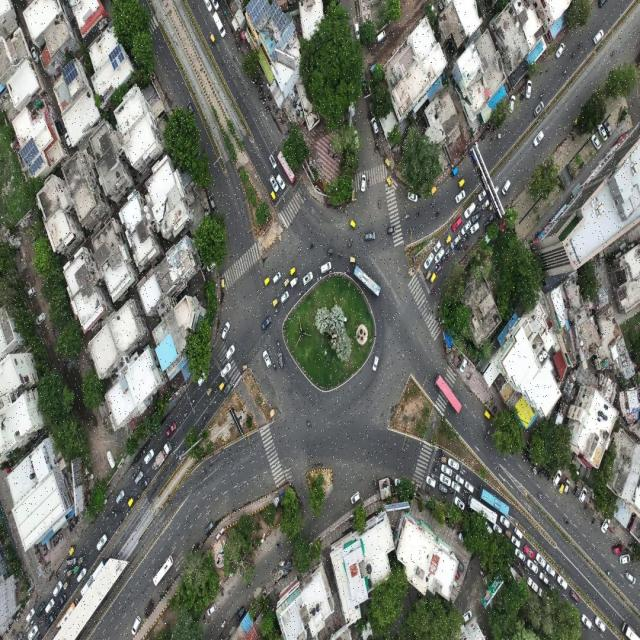3W: (67, 540, 78, 557), (262, 272, 273, 288), (65, 562, 74, 581), (428, 182, 438, 198), (482, 405, 492, 421), (270, 294, 281, 308), (62, 575, 71, 592), (349, 216, 358, 233), (76, 553, 86, 568), (206, 381, 214, 399), (451, 163, 460, 179), (240, 359, 251, 372), (72, 563, 82, 577), (127, 494, 136, 509), (457, 174, 466, 189), (573, 481, 580, 500), (326, 244, 336, 257), (348, 252, 358, 265), (438, 452, 448, 465), (209, 33, 218, 47), (503, 526, 512, 540), (218, 377, 226, 392), (270, 188, 278, 203), (428, 272, 438, 284), (557, 482, 565, 497), (219, 275, 226, 290), (444, 234, 452, 247), (283, 276, 291, 288), (289, 266, 297, 278), (384, 156, 391, 169), (425, 270, 432, 283), (486, 205, 494, 214), (387, 177, 392, 189)
Bus: (78, 555, 109, 598), (434, 372, 464, 416), (352, 261, 382, 299), (464, 494, 500, 525), (478, 484, 510, 517), (54, 596, 81, 635), (148, 552, 176, 588), (277, 150, 297, 187), (618, 618, 640, 640)
Cars: (595, 118, 609, 143), (368, 349, 380, 378), (553, 40, 567, 63), (95, 532, 109, 554), (267, 172, 279, 197), (599, 514, 612, 537), (144, 596, 155, 622), (532, 126, 545, 148), (450, 214, 465, 233), (261, 345, 272, 370), (452, 188, 467, 206), (142, 448, 156, 467), (590, 28, 604, 47), (44, 609, 56, 631), (260, 314, 273, 334), (186, 98, 196, 124), (506, 92, 516, 118), (463, 199, 476, 219), (580, 612, 593, 632), (453, 495, 468, 512), (130, 615, 142, 636), (165, 419, 177, 440), (349, 489, 363, 507), (221, 319, 231, 344), (224, 343, 237, 362), (234, 604, 247, 623), (593, 614, 606, 633), (76, 566, 88, 586), (590, 134, 602, 154), (320, 259, 334, 276), (532, 101, 545, 119), (461, 218, 474, 236), (52, 579, 64, 598), (220, 361, 232, 380), (526, 558, 540, 574), (301, 269, 314, 286), (374, 28, 387, 45), (552, 466, 562, 488), (55, 593, 67, 611), (624, 568, 636, 586), (557, 574, 569, 592), (535, 552, 549, 567), (523, 544, 537, 559), (205, 601, 218, 617), (500, 179, 512, 196), (569, 588, 581, 605), (208, 192, 218, 212), (578, 486, 588, 506), (223, 380, 234, 398), (352, 129, 361, 151), (370, 114, 379, 136), (423, 252, 434, 270), (425, 474, 438, 489), (27, 624, 39, 640), (44, 598, 56, 614), (612, 542, 624, 558), (434, 247, 445, 264), (270, 270, 283, 284), (545, 564, 558, 578), (451, 480, 464, 494), (448, 457, 462, 470), (441, 463, 454, 477), (439, 473, 453, 486), (25, 606, 35, 624), (36, 600, 46, 618), (268, 152, 278, 170), (276, 174, 286, 192), (484, 212, 494, 230), (539, 572, 551, 587), (492, 522, 504, 537), (204, 520, 215, 536), (279, 290, 290, 306), (525, 78, 533, 100), (450, 235, 461, 251), (115, 488, 125, 505), (202, 0, 214, 14), (360, 171, 367, 195), (406, 190, 418, 204), (618, 554, 630, 568), (514, 548, 528, 560), (499, 516, 513, 528), (459, 356, 468, 374), (134, 470, 144, 486), (141, 476, 151, 492), (197, 372, 207, 388), (481, 196, 491, 212), (470, 220, 480, 236), (563, 477, 571, 497), (514, 526, 526, 539), (353, 20, 360, 42), (604, 118, 612, 137), (361, 76, 368, 97), (66, 555, 78, 567), (364, 230, 376, 242), (433, 239, 442, 255), (510, 536, 522, 548), (464, 480, 476, 492), (454, 473, 466, 485), (437, 484, 451, 494), (278, 350, 285, 369), (471, 212, 482, 224), (478, 189, 488, 202), (210, 0, 220, 12), (386, 224, 396, 236)
LCV: (213, 12, 228, 42), (526, 575, 539, 595), (290, 276, 301, 289)
M2W: (243, 576, 253, 593), (608, 48, 616, 64), (27, 618, 36, 630), (274, 537, 282, 550), (305, 414, 311, 430), (190, 540, 197, 553), (569, 50, 577, 61), (40, 613, 47, 625), (54, 570, 61, 582), (158, 588, 164, 602), (563, 514, 569, 527), (630, 550, 636, 563), (272, 361, 278, 373), (297, 289, 305, 298), (315, 273, 323, 282), (307, 242, 316, 250), (375, 198, 381, 210), (104, 512, 111, 522), (111, 506, 118, 516), (125, 508, 132, 518), (562, 68, 569, 78), (522, 564, 529, 574), (428, 470, 435, 480), (38, 555, 44, 566), (282, 195, 288, 206), (475, 200, 481, 211), (514, 556, 520, 567), (141, 447, 148, 456), (273, 306, 280, 315), (538, 91, 545, 100), (124, 494, 130, 504), (136, 492, 142, 502), (266, 344, 272, 354), (274, 337, 280, 347), (273, 108, 279, 118), (412, 212, 422, 218), (577, 42, 582, 54), (202, 414, 209, 422), (337, 251, 344, 259), (403, 212, 410, 220), (75, 513, 80, 524), (63, 566, 69, 575), (131, 472, 137, 481), (137, 462, 143, 471), (190, 398, 196, 407), (344, 269, 353, 275), (435, 209, 441, 218), (605, 568, 611, 577), (542, 568, 548, 577), (533, 558, 539, 567), (458, 468, 464, 477), (448, 486, 454, 495), (432, 465, 438, 474), (426, 483, 432, 492), (541, 462, 545, 475), (51, 540, 56, 550), (366, 179, 371, 189), (519, 87, 524, 97), (327, 268, 334, 275), (520, 95, 527, 102), (54, 538, 60, 546), (119, 516, 123, 528), (118, 507, 124, 515), (182, 411, 188, 419), (429, 202, 437, 208), (482, 435, 488, 443), (520, 560, 526, 568), (435, 461, 441, 469), (252, 75, 257, 84), (260, 79, 265, 88), (374, 146, 379, 155), (486, 427, 491, 436), (34, 548, 40, 555), (255, 85, 261, 92), (440, 256, 446, 263), (537, 493, 543, 500), (462, 487, 468, 494), (71, 520, 75, 530), (73, 517, 77, 527), (213, 388, 218, 396), (435, 262, 440, 270), (591, 516, 595, 526), (438, 447, 443, 455), (60, 533, 64, 542), (235, 47, 241, 53), (455, 244, 461, 250), (437, 264, 441, 273), (526, 451, 529, 463), (548, 472, 551, 484), (584, 502, 588, 511), (624, 548, 630, 554), (628, 542, 634, 548), (463, 496, 467, 505), (254, 80, 259, 87), (346, 242, 353, 247), (466, 234, 471, 241), (68, 526, 72, 534), (271, 104, 275, 112), (459, 243, 463, 251), (58, 534, 61, 544), (115, 508, 118, 518), (258, 89, 263, 95), (480, 136, 485, 142), (464, 231, 469, 237), (445, 249, 450, 255), (430, 288, 435, 294), (534, 460, 537, 470), (287, 388, 293, 393), (258, 95, 265, 99), (263, 97, 266, 106), (269, 96, 273, 102), (264, 105, 268, 111), (267, 107, 270, 115), (460, 238, 466, 242), (464, 244, 468, 250), (445, 254, 449, 260), (545, 469, 547, 479), (267, 94, 270, 100), (525, 452, 527, 459)
Truck: (150, 441, 176, 474)
